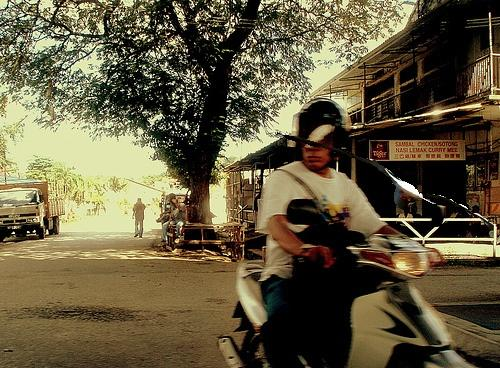tampered: (277, 134, 494, 226)
